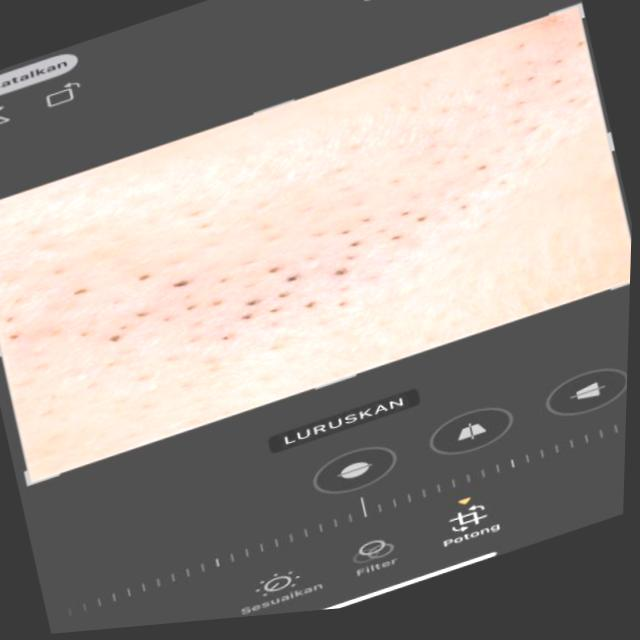blackhead: (57, 122, 580, 363)
